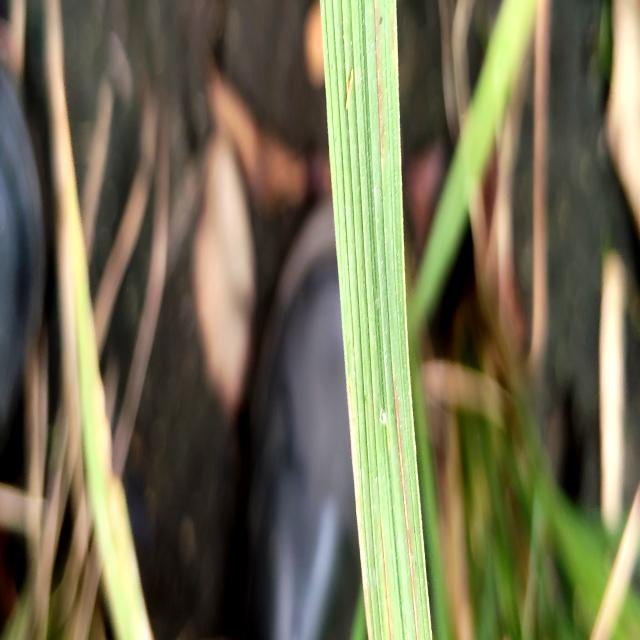NBS: (391, 365, 420, 640), (347, 381, 373, 640), (373, 0, 385, 171), (379, 524, 394, 640), (388, 9, 397, 62)
